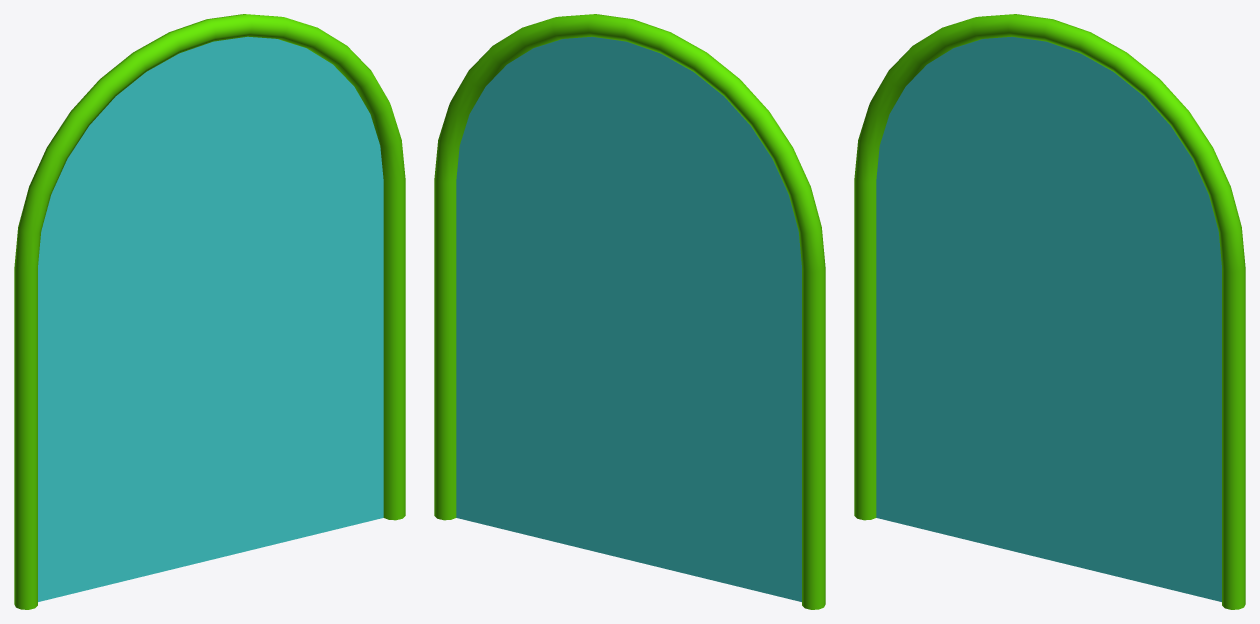
Rendered from Gate.fbx.
3 views of the same model, side by side, from view 1: azimuth 30°, elevation 25°; view 2: azimuth 150°, elevation 25°; view 3: azimuth 330°, elevation 25° (orthographic).
Visible parts, largest first — view 1: Gate2; view 2: Gate2; view 3: Gate2.
Part boxes in pixels (<box>): Gate2: <box>14,14,405,609</box>; Gate2: <box>434,14,825,609</box>; Gate2: <box>854,14,1245,609</box>.
Bounding box in the file's own units: 8.44 × 11.24 × 0.4218.
